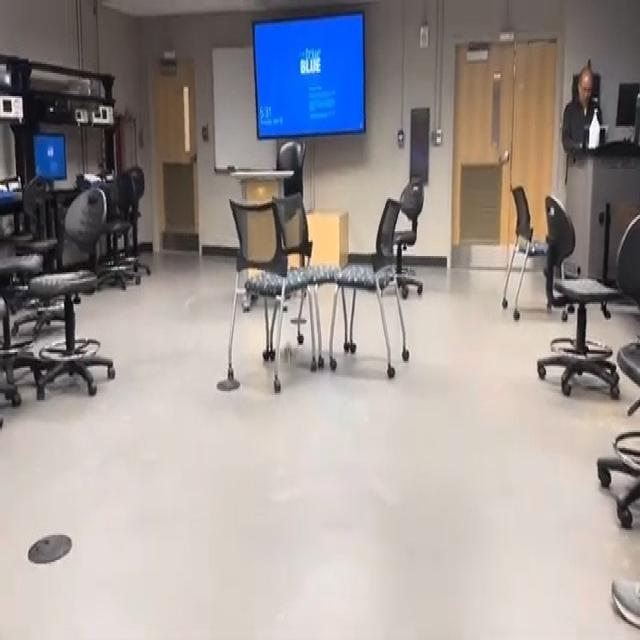drone: (276, 334, 308, 374)
